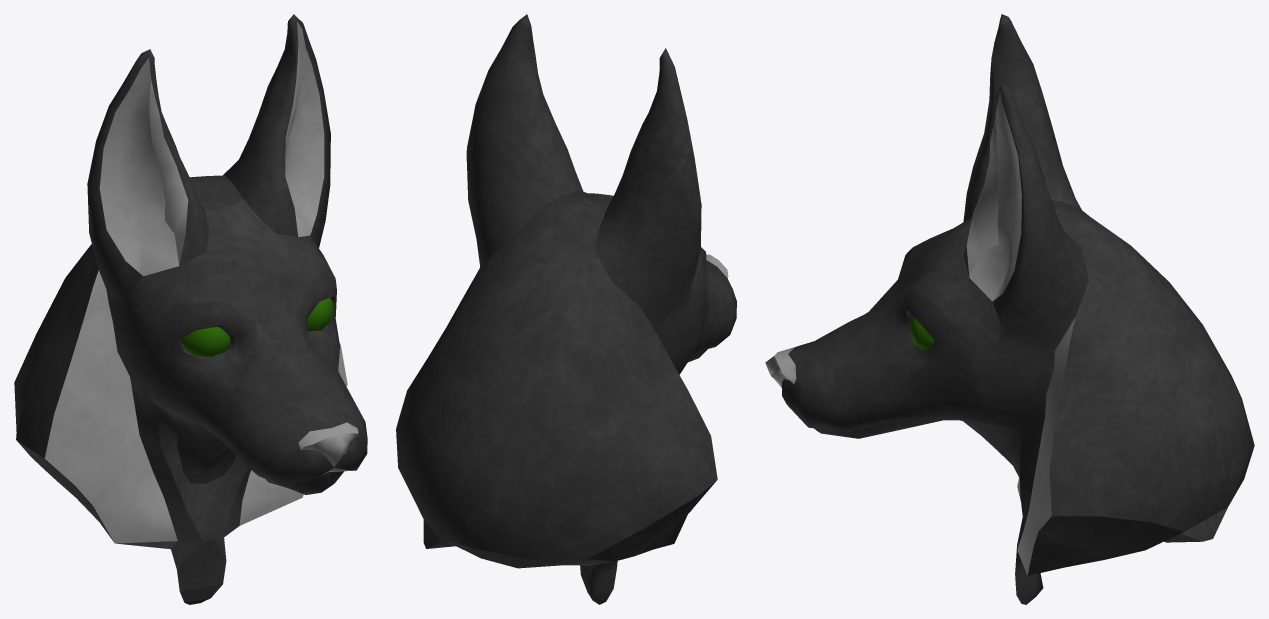
The model's file is statue_anubis.glb.
3 views of the same model, side by side, from view 1: azimuth 30°, elevation 25°; view 2: azimuth 150°, elevation 25°; view 3: azimuth 270°, elevation 25° (orthographic). The views are drawn at different scales.
Visible parts, largest first — view 1: GodAnubis_Art; view 2: GodAnubis_Art; view 3: GodAnubis_Art.
Part boxes in pixels (x1,y1,x2,y2): GodAnubis_Art: [14, 14, 367, 604]; GodAnubis_Art: [396, 14, 736, 604]; GodAnubis_Art: [765, 14, 1254, 604].
Bounding box in the file's own units: 1.28 × 2.28 × 1.8.
Materials: 2 (1 with a texture image).
